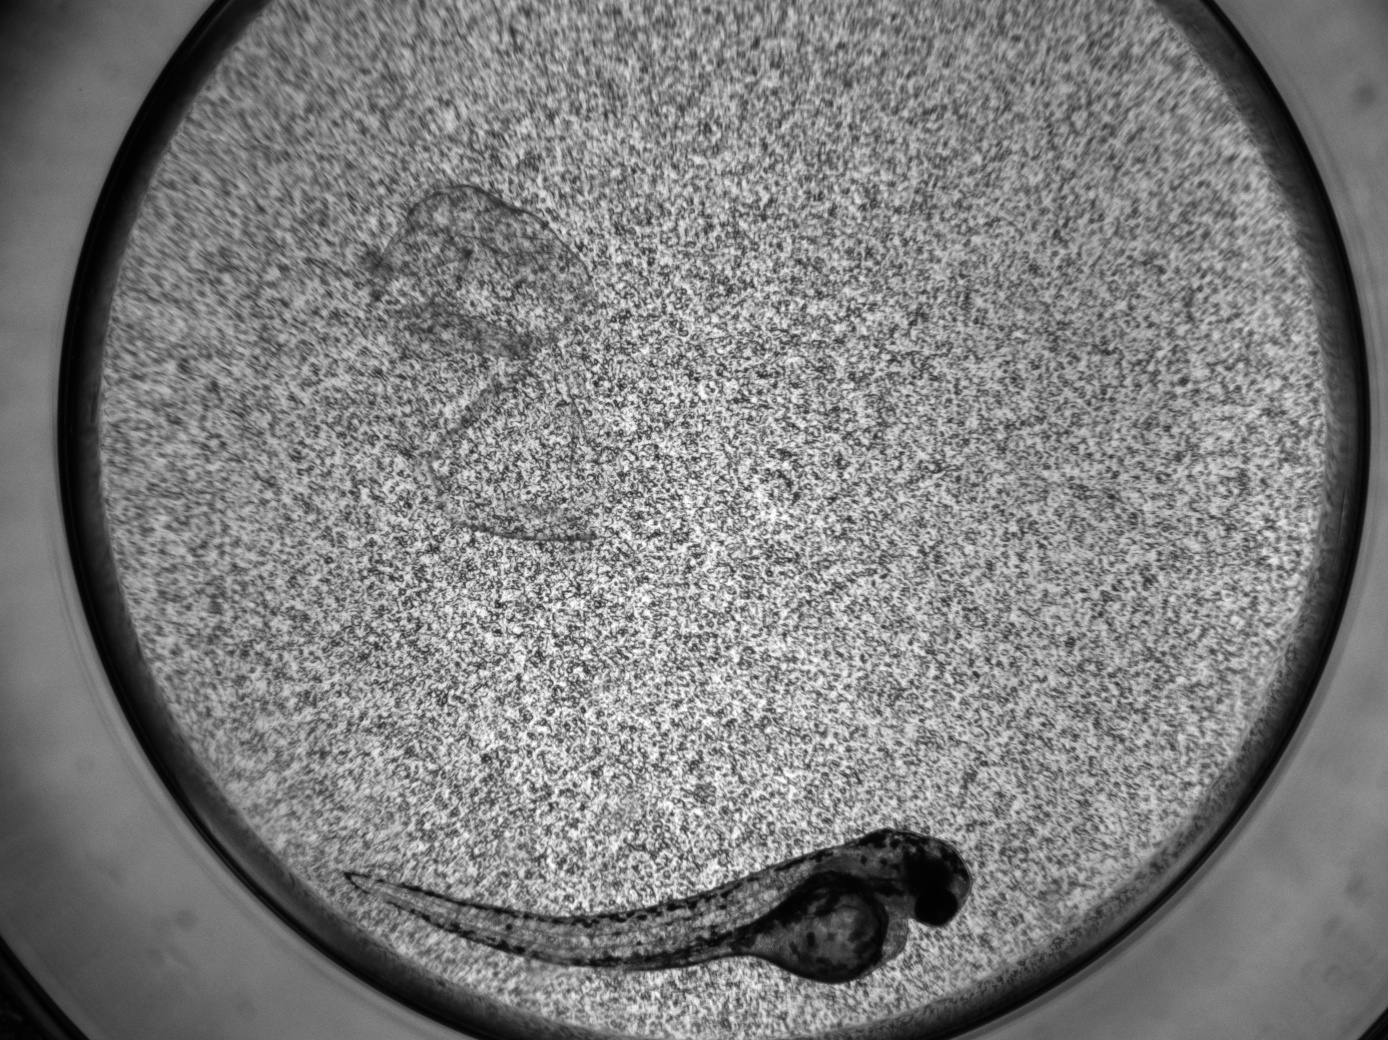embryo: (342, 828, 974, 985)
eye: (915, 889, 958, 927), (906, 858, 951, 893)
yolksac: (754, 871, 889, 984)
